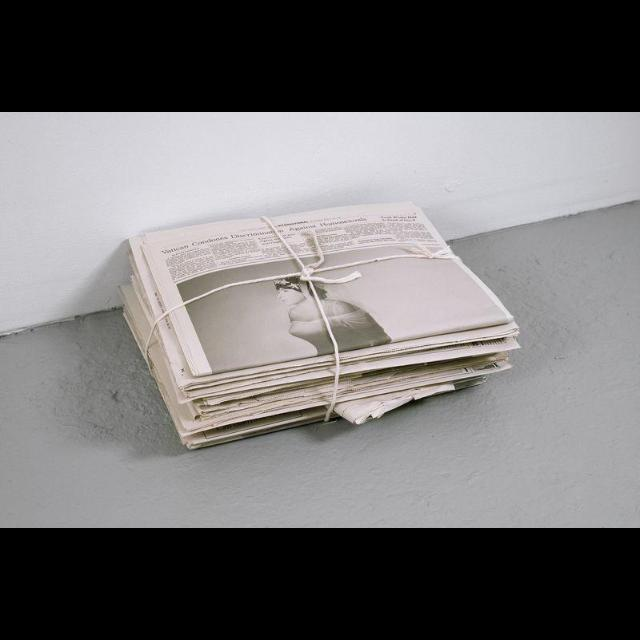papel: (116, 203, 522, 452)
